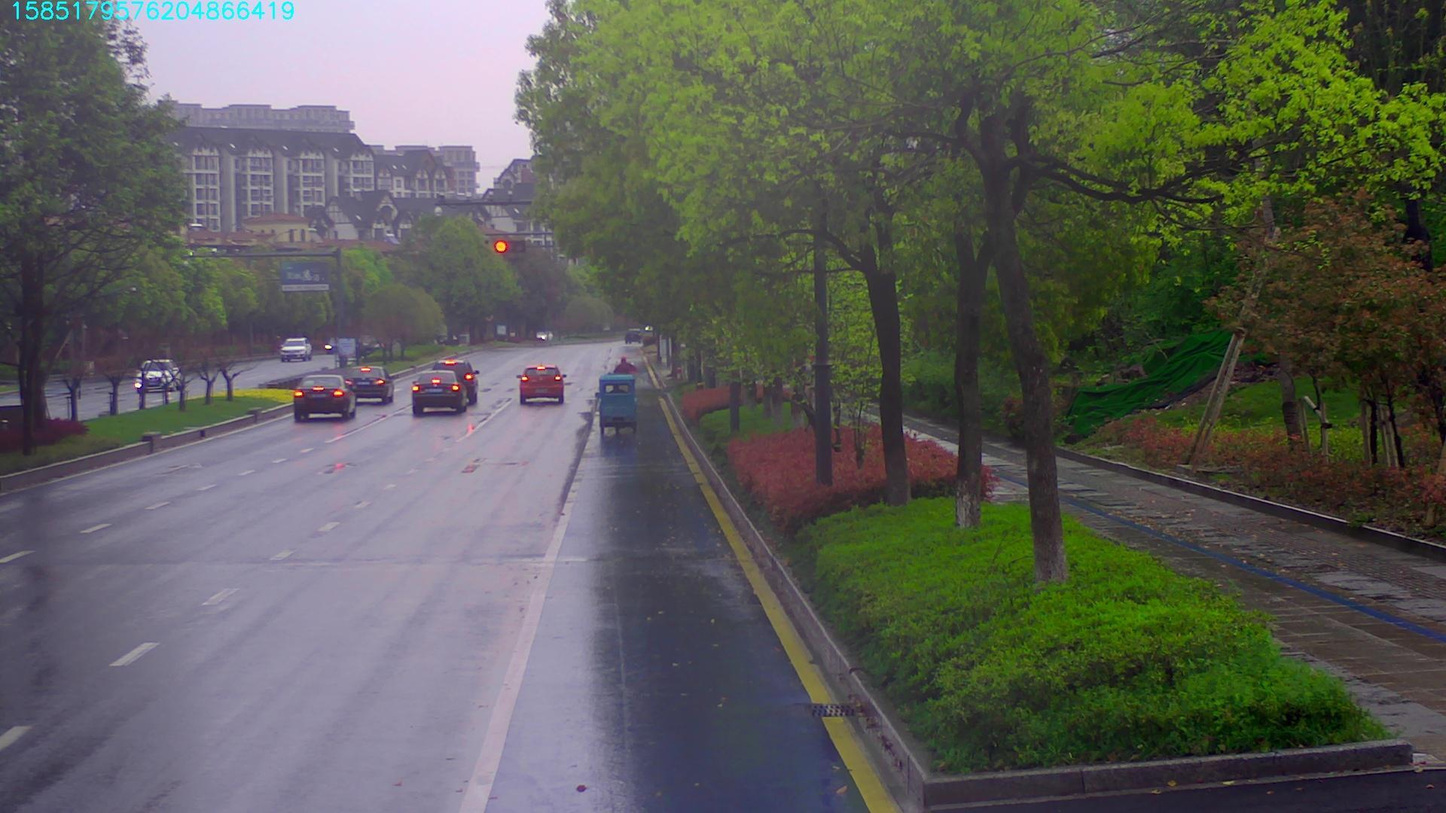red: (490, 238, 527, 253)
